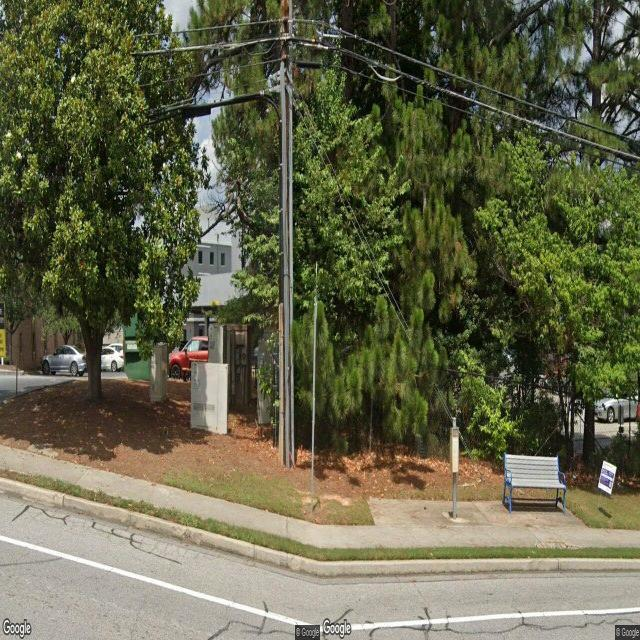seating: (502, 452, 566, 516)
